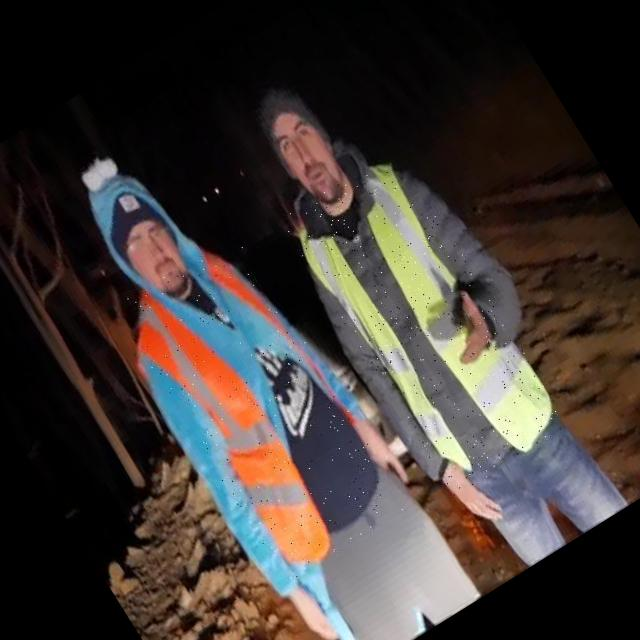safety_vest: (111, 226, 411, 586), (278, 147, 570, 498)
